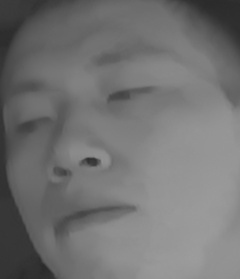eye: (106, 78, 160, 111), (8, 106, 54, 142)
mouth: (44, 197, 137, 241)
